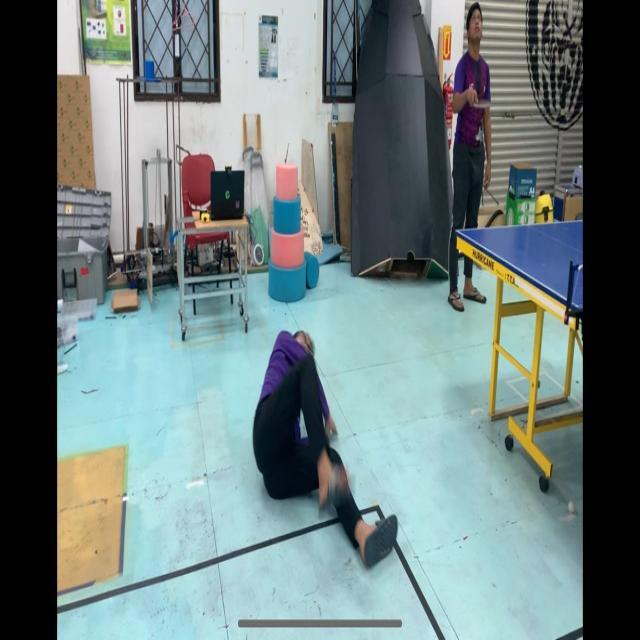fall: (255, 319, 406, 568)
